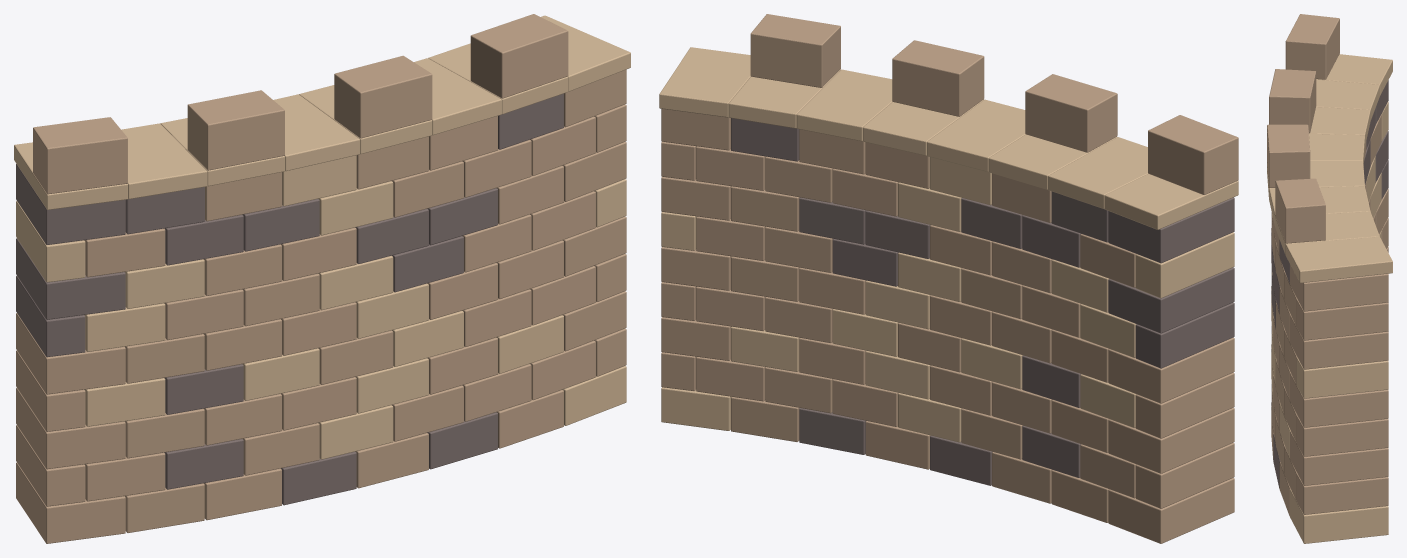
File: ashwick-curved-curtain-wall.meshopt.glb
3 renders of one model, left to right at view 1: azimuth 30°, elevation 25°; view 2: azimuth 150°, elevation 25°; view 3: azimuth 270°, elevation 25°, orthographic. The views are drawn at different scales.
Parts seen in each view (by area): view 1: Radial ashlar.003, Radial ashlar.004, Radial ashlar.005, Wall crown.003, Wall crown.002; view 2: Radial ashlar.003, Radial ashlar.004, Radial ashlar.005, Wall crown.002, Wall crown.003; view 3: Radial ashlar.003, Wall crown.002, Wall crown.003, Radial ashlar.005, Radial ashlar.004.
Part boxes in pixels (x1,y1,x2,y2): Radial ashlar.003: (16, 69, 626, 543); Radial ashlar.004: (16, 93, 563, 505); Radial ashlar.005: (16, 155, 626, 459); Wall crown.003: (33, 14, 568, 194); Wall crown.002: (14, 15, 630, 209); Radial ashlar.003: (661, 108, 1234, 543); Radial ashlar.004: (731, 118, 1234, 485); Radial ashlar.005: (661, 157, 1234, 442); Wall crown.002: (659, 47, 1238, 229); Wall crown.003: (750, 14, 1238, 194); Radial ashlar.003: (1271, 114, 1388, 516); Wall crown.002: (1267, 54, 1392, 282); Wall crown.003: (1267, 14, 1339, 243); Radial ashlar.005: (1271, 101, 1388, 543); Radial ashlar.004: (1271, 80, 1388, 488).
Bounding box in the file's own units: 6.22 × 4.05 × 1.49.
